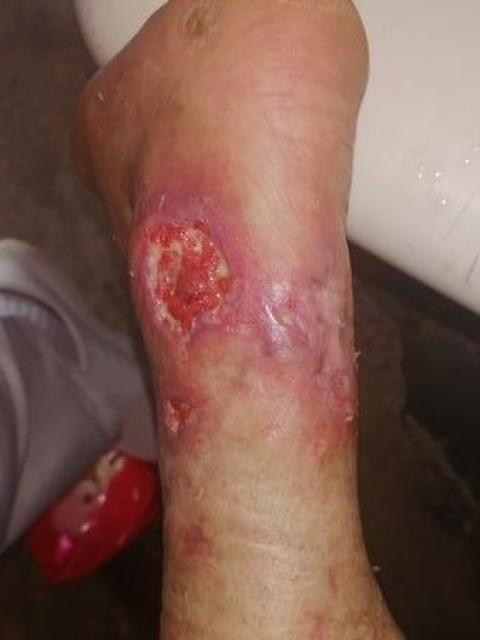wound: (145, 214, 242, 361), (265, 299, 309, 348), (177, 522, 216, 566), (332, 368, 360, 425), (163, 397, 197, 433)
